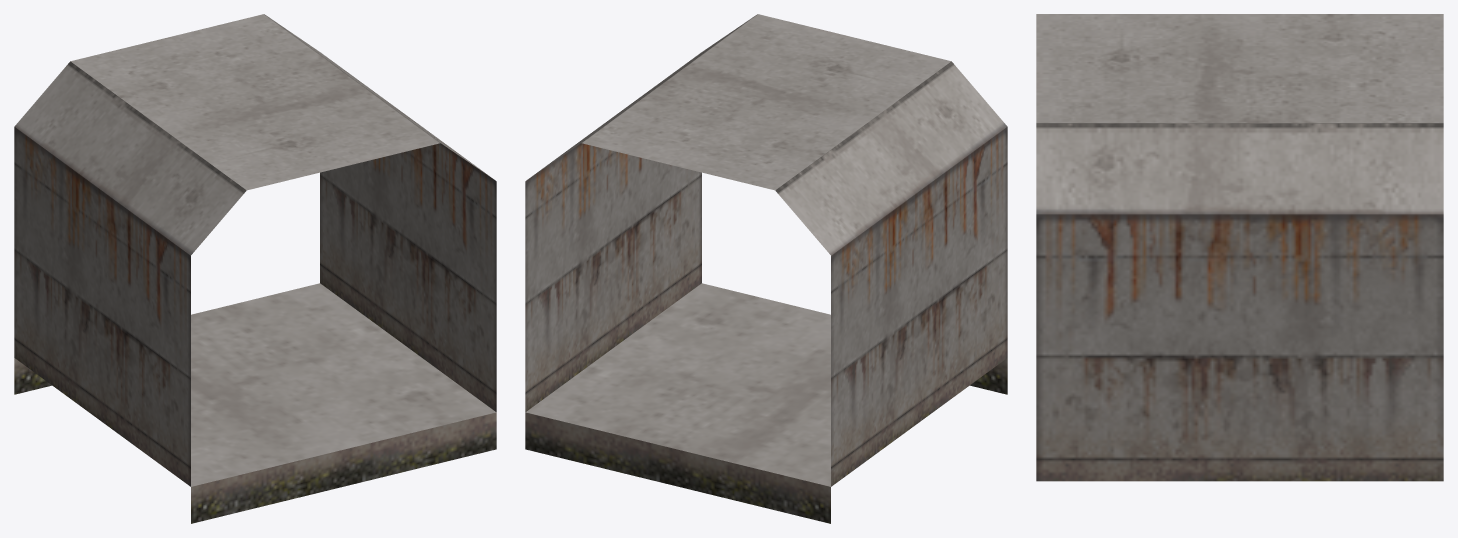
Rendered from MESH_ESGOTO_3_002.fbx.
3 views of the same model, side by side, from view 1: azimuth 30°, elevation 25°; view 2: azimuth 150°, elevation 25°; view 3: azimuth 270°, elevation 25° (orthographic). The views are drawn at different scales.
Parts seen in each view (by area): view 1: MESH_ESGOTO_3.002; view 2: MESH_ESGOTO_3.002; view 3: MESH_ESGOTO_3.002.
Part boxes in pixels (x1=…): MESH_ESGOTO_3.002: x1=14, y1=14, x2=496, y2=523; MESH_ESGOTO_3.002: x1=525, y1=14, x2=1007, y2=523; MESH_ESGOTO_3.002: x1=1036, y1=14, x2=1443, y2=481.
Size of the model in its own units: 4 by 4 by 4.
